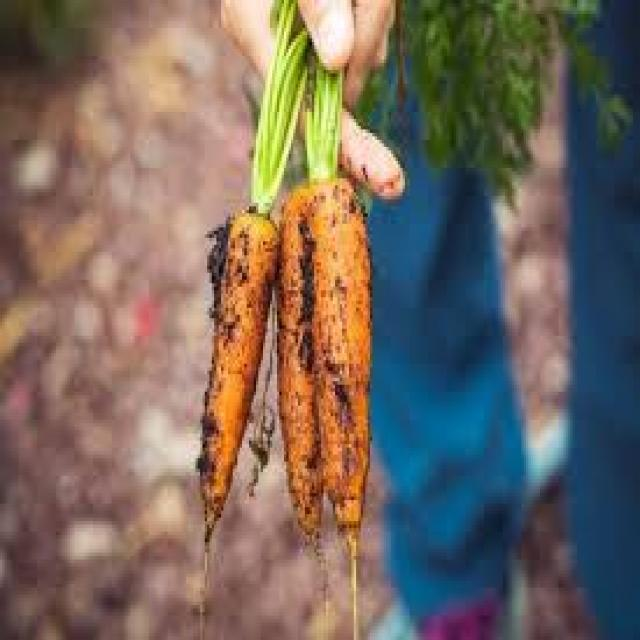organic waste: (390, 0, 628, 199), (198, 203, 277, 545), (307, 168, 370, 545), (277, 175, 323, 545), (242, 0, 307, 213), (300, 59, 338, 175), (354, 70, 377, 122)
